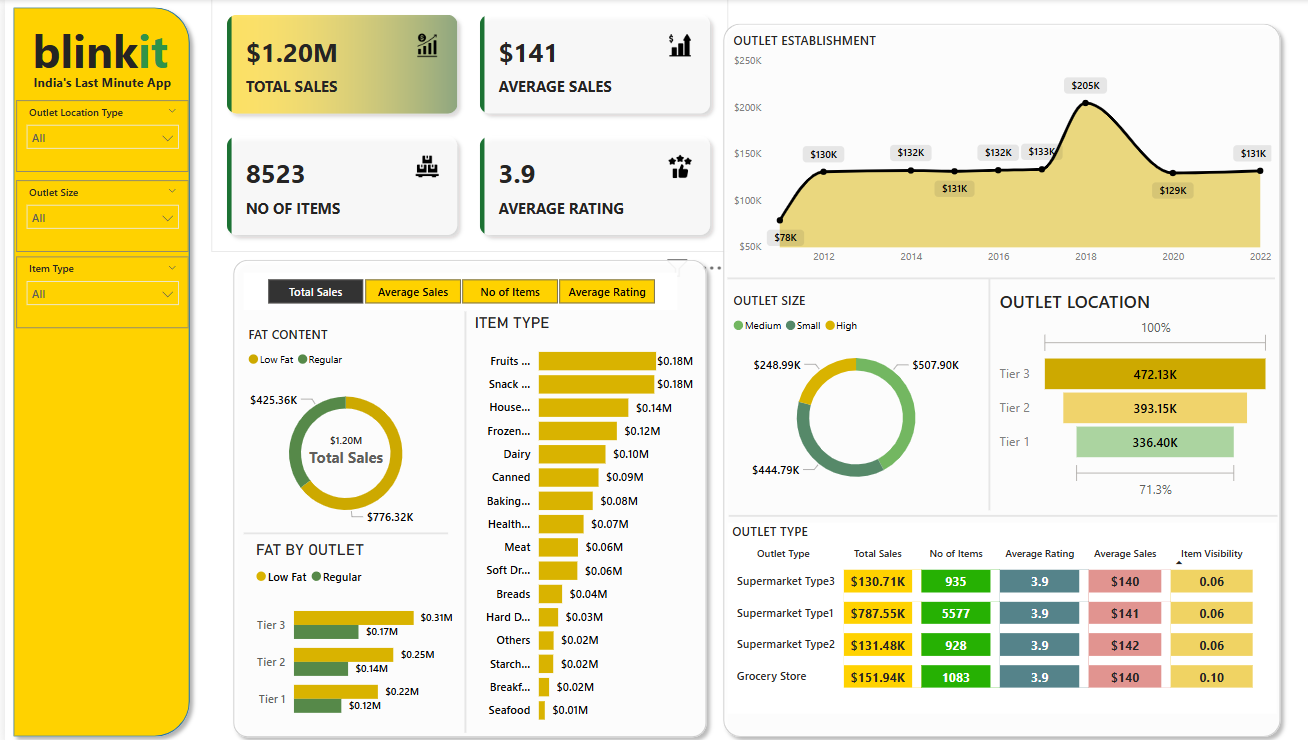

The page's visual inventory and layout, read from the dashboard file:
{"tool":"powerbi","page":{"name":"Page 1","canvas":[1400,800],"ordinal":0},"visuals":[{"type":"shape","box":[0,0,207.1,800],"z":0},{"type":"textbox","box":[18,18,169.6,78],"z":1000},{"type":"textbox","box":[12,75,184.6,33],"z":2000},{"type":"cardVisual","fields":{"Data":["BlinkIT Grocery Data.Total Sales","BlinkIT Grocery Data.Average Sales","BlinkIT Grocery Data.No of Items","BlinkIT Grocery Data.Average Rating"]},"box":[220.6,0,553.8,270.2],"z":3000},{"type":"shape","box":[235.6,270.2,525.3,529.8],"z":4000},{"type":"donutChart","title":"FAT CONTENT","fields":{"Y":["BlinkIT Grocery Data.Total Sales"],"Category":["BlinkIT Grocery Data.Item Fat Content"]},"box":[256.6,349.7,219.1,229.6],"z":5000},{"type":"slicer","fields":{"Values":["Metrics.Metrics"]},"box":[256.6,294.2,465,40],"z":6000},{"type":"cardVisual","fields":{"Data":["BlinkIT Grocery Data.Total Sales"]},"box":[307.7,448.8,115.6,64.5],"z":7000},{"type":"clusteredBarChart","title":"FAT BY OUTLET","fields":{"Y":["BlinkIT Grocery Data.Total Sales"],"Series":["BlinkIT Grocery Data.Item Fat Content"],"Category":["BlinkIT Grocery Data.Outlet Location Type"]},"box":[264.1,580.4,221.2,207.8],"z":8000},{"type":"shape","box":[256.6,567.3,219.1,12],"z":9000},{"type":"shape","box":[489.3,334.7,9,451.8],"z":10000},{"type":"barChart","title":"ITEM TYPE","fields":{"Y":["BlinkIT Grocery Data.Total Sales"],"Category":["BlinkIT Grocery Data.Item Type"]},"box":[498.3,336.2,244.6,451.8],"z":11000},{"type":"shape","box":[761.4,17.4,615.3,782.8],"z":12000},{"type":"lineChart","title":"OUTLET ESTABLISHMENT","fields":{"Y":["BlinkIT Grocery Data.Total Sales"],"Category":["BlinkIT Grocery Data.Outlet Establishment Year"]},"box":[776.1,34.9,587.1,258.7],"z":13000},{"type":"shape","box":[774.8,293.6,587.1,12.1],"z":14000},{"type":"donutChart","title":"OUTLET SIZE","fields":{"Y":["BlinkIT Grocery Data.Total Sales"],"Category":["BlinkIT Grocery Data.Outlet Size"]},"box":[776.1,313.7,273.5,225.2],"z":15000},{"type":"shape","box":[1049.6,300.3,12.1,248],"z":16000},{"type":"funnel","title":"OUTLET LOCATION","fields":{"Category":["BlinkIT Grocery Data.Outlet Location Type"],"Y":["Sum(BlinkIT Grocery Data.Sales)"]},"box":[1061.7,311,300.3,230.6],"z":17000},{"type":"shape","box":[776.1,548.3,588.5,12.1],"z":18000},{"type":"pivotTable","title":"OUTLET TYPE","fields":{"Rows":["BlinkIT Grocery Data.Outlet Type"],"Values":["BlinkIT Grocery Data.Total Sales","BlinkIT Grocery Data.No of Items","BlinkIT Grocery Data.Average Rating","BlinkIT Grocery Data.Average Sales","Avg(BlinkIT Grocery Data.Item Visibility)"]},"box":[774.8,561.7,588.5,205.1],"z":19000},{"type":"actionButton","box":[0,0,100,40],"z":20000},{"type":"slicer","fields":{"Values":["BlinkIT Grocery Data.Outlet Location Type"]},"box":[12.1,108.6,185,76.4],"z":21000},{"type":"slicer","fields":{"Values":["BlinkIT Grocery Data.Outlet Size"]},"box":[12.1,194.4,185,76.4],"z":22000},{"type":"slicer","fields":{"Values":["BlinkIT Grocery Data.Item Type"]},"box":[12.1,276.1,185,76.4],"z":23000}]}

Visuals, with their boxes in screenshot pixels (x1, y1, x2, y2), scaled from the page's 1400x800 canvas onto the 1308x740 screenshot:
shape: left=0, top=0, right=193, bottom=739
textbox: left=17, top=17, right=175, bottom=89
textbox: left=11, top=69, right=184, bottom=100
cardVisual - BlinkIT Grocery Data.Total Sales x BlinkIT Grocery Data.Average Sales: left=206, top=0, right=724, bottom=250
shape: left=220, top=250, right=711, bottom=739
"FAT CONTENT" donutChart: left=240, top=323, right=444, bottom=536
slicer - Metrics.Metrics: left=240, top=272, right=674, bottom=309
cardVisual - BlinkIT Grocery Data.Total Sales: left=287, top=415, right=395, bottom=475
"FAT BY OUTLET" clusteredBarChart: left=247, top=537, right=453, bottom=729
shape: left=240, top=525, right=444, bottom=536
shape: left=457, top=310, right=466, bottom=728
"ITEM TYPE" barChart: left=466, top=311, right=694, bottom=729
shape: left=711, top=16, right=1286, bottom=739
"OUTLET ESTABLISHMENT" lineChart: left=725, top=32, right=1274, bottom=272
shape: left=724, top=272, right=1272, bottom=283
"OUTLET SIZE" donutChart: left=725, top=290, right=981, bottom=498
shape: left=981, top=278, right=992, bottom=507
"OUTLET LOCATION" funnel: left=992, top=288, right=1272, bottom=501
shape: left=725, top=507, right=1275, bottom=518
"OUTLET TYPE" pivotTable: left=724, top=520, right=1274, bottom=709
actionButton: left=0, top=0, right=93, bottom=37
slicer - BlinkIT Grocery Data.Outlet Location Type: left=11, top=100, right=184, bottom=171
slicer - BlinkIT Grocery Data.Outlet Size: left=11, top=180, right=184, bottom=250
slicer - BlinkIT Grocery Data.Item Type: left=11, top=255, right=184, bottom=326
